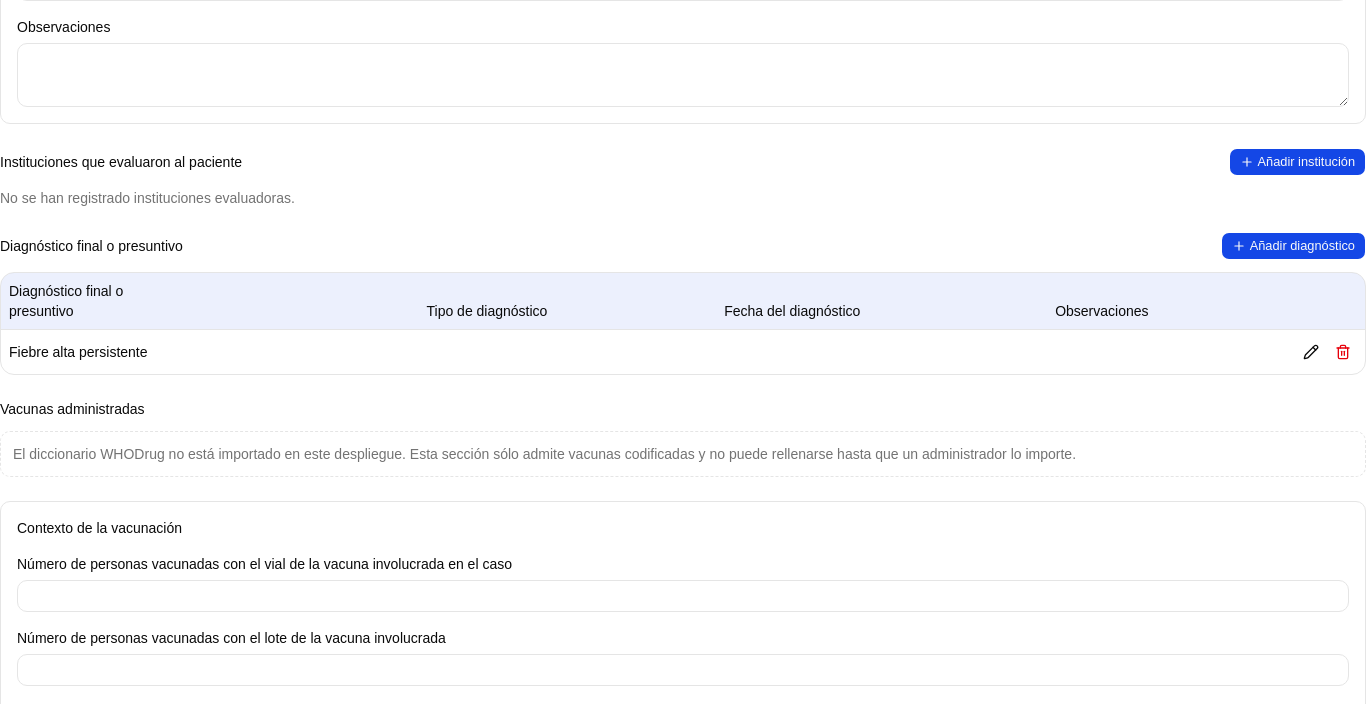
InvestigationStep — el recorrido completo del tramo C (SPEC FE13c §4 paso 10) › un 409 INVDIAG_005A_CASE_CLOSED al retirar un diagnóstico muestra un solo toast, relee el 006 y deja el paso en sólo lectura (SPEC FE17 §4 paso 7)
The image size is (1366, 704).
(page scrolled)
Click the button named "Eliminar Fiebre alta persistente". click: click(1343, 352)
box: [1329, 338, 1357, 366]
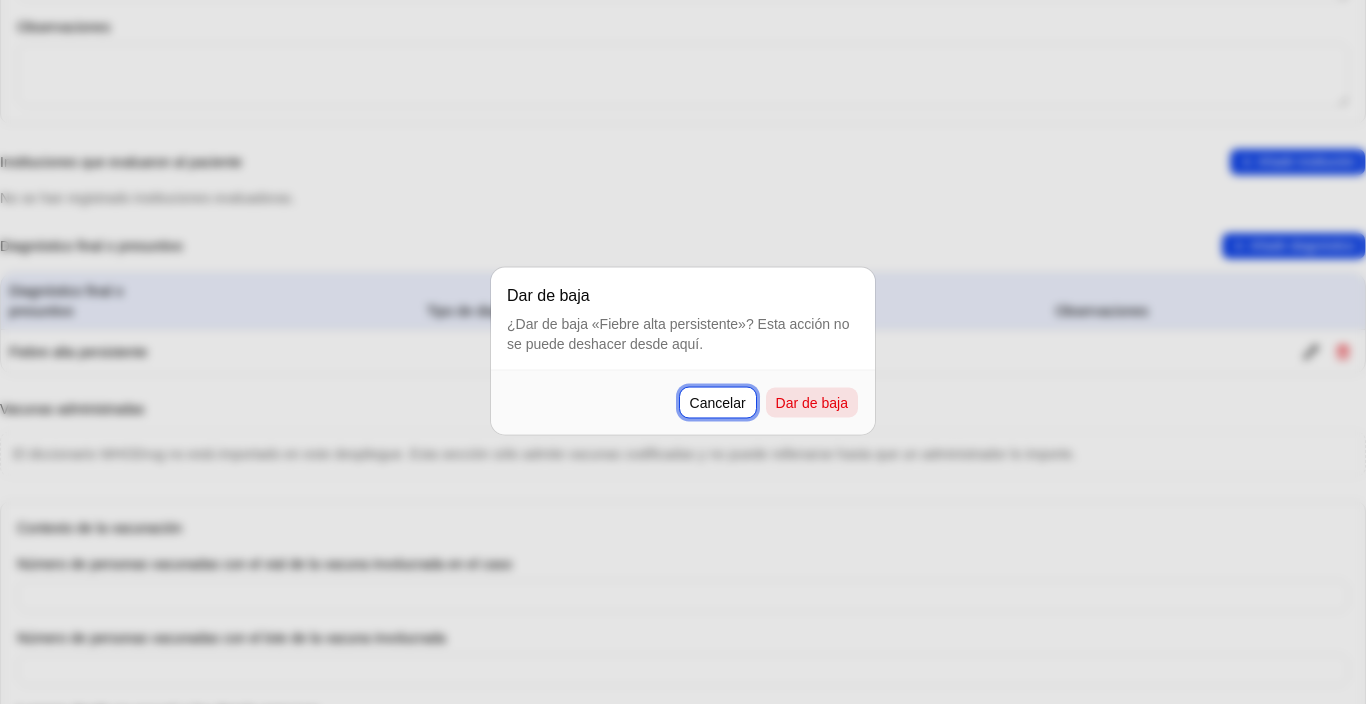
Expected: the text "¿Dar de baja «Fiebre alta persistente»? Esta acción no se puede deshacer desde aquí." is shown, [507, 316, 849, 352]
Click the button "Dar de baja". click: click(812, 402)
box: [765, 386, 859, 418]
(page scrolled)
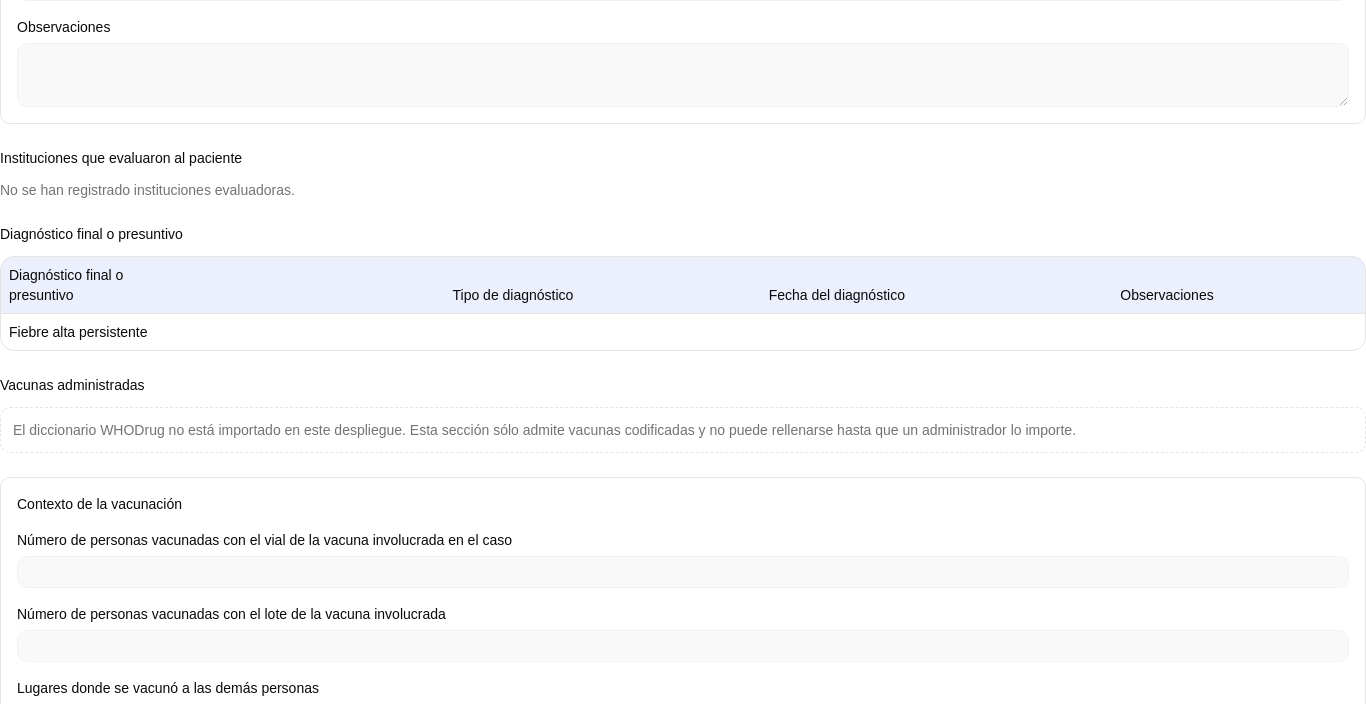
Expected: the text "¿Dar de baja «Fiebre alta persistente»? Esta acción no se puede deshacer desde aquí." is gone
Expected: the button "Añadir diagnóstico" is gone
